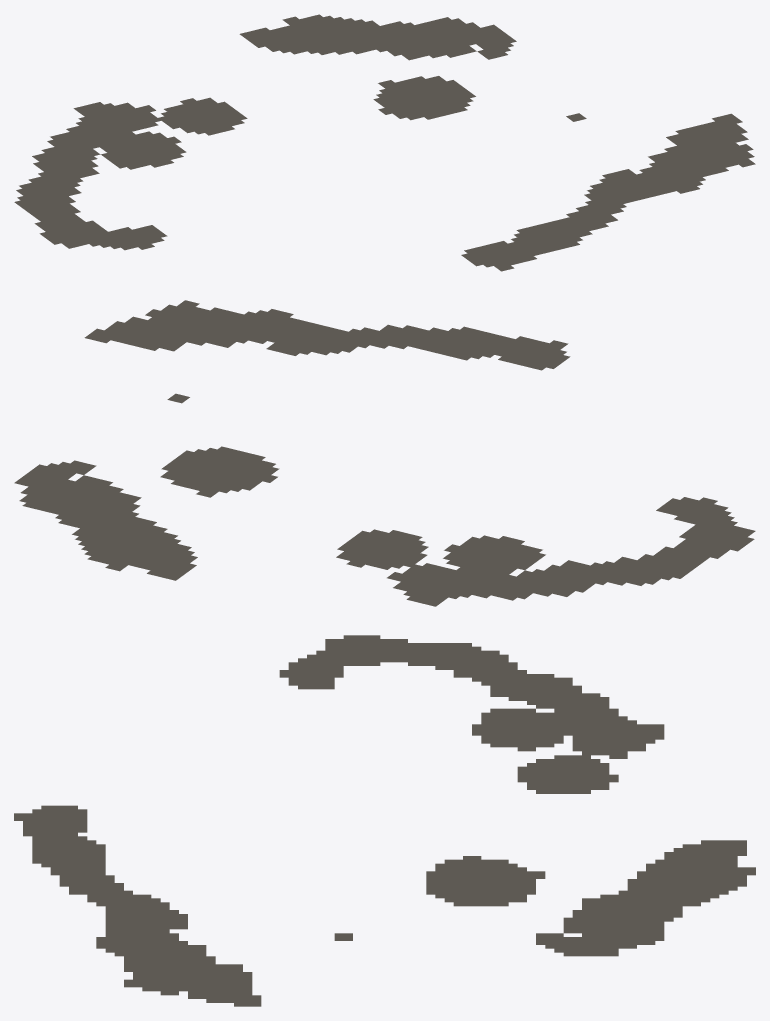
The model's file is Isl-flat4-NoBuildArea.fbx.
3 views of the same model, one above another, from view 1: azimuth 30°, elevation 25°; view 2: azimuth 150°, elevation 25°; view 3: azimuth 270°, elevation 25° (orthographic). The views are drawn at different scales.
Visible parts, largest first — view 1: Isl-flat4-NoBuildArea; view 2: Isl-flat4-NoBuildArea; view 3: Isl-flat4-NoBuildArea.
Boxes of the visible parts, box(x1,y1,x2,y2) form: Isl-flat4-NoBuildArea: box(14, 14, 755, 271); Isl-flat4-NoBuildArea: box(14, 300, 755, 606); Isl-flat4-NoBuildArea: box(14, 635, 755, 1006).
Bounding box in the file's own units: 96 × 0 × 81.
